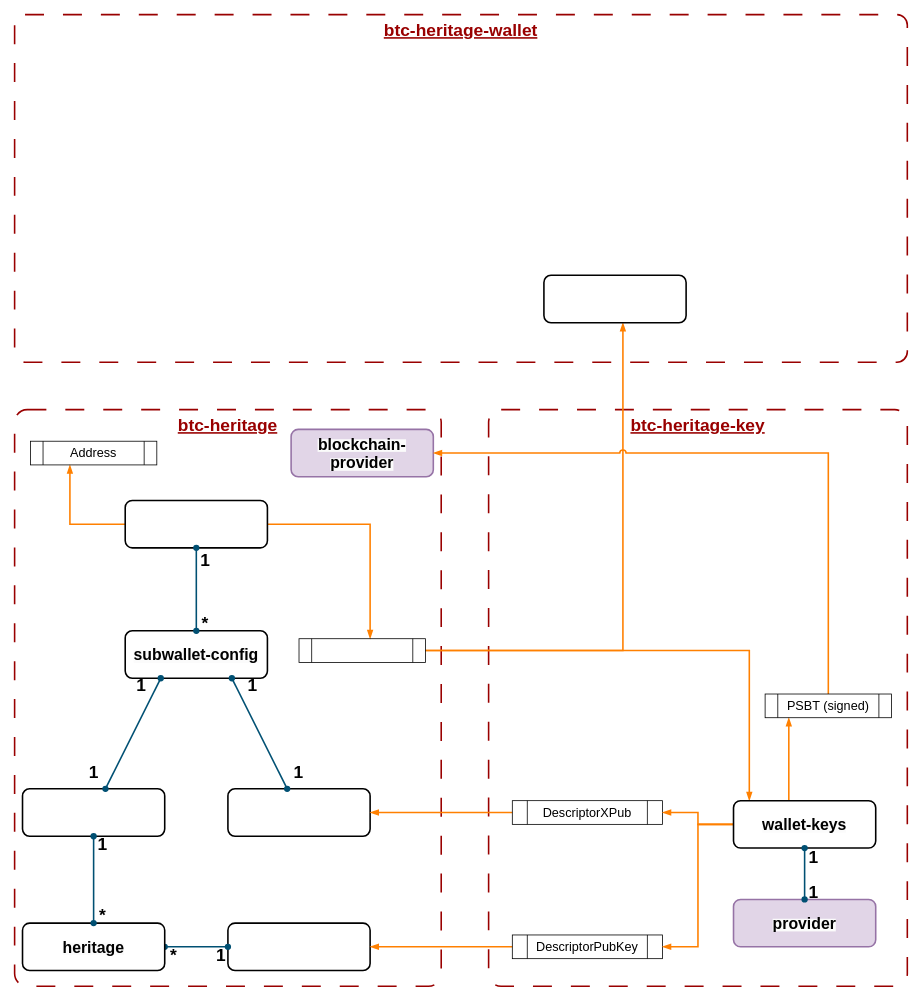
The diagram is 921 pixels wide and 1000 high, and some of its shapes have lost their labels. Here are the shapes that lost their labels. From the top down, the centre of each, then its label:
At [615,298]: "psbt-utils".
At [196,523]: "heritage-wallet".
At [361,650]: "PSBT (unsigned)".
At [93,812]: "heritage-config".
At [299,812]: "account-xpub".
At [299,946]: "heir-config".
